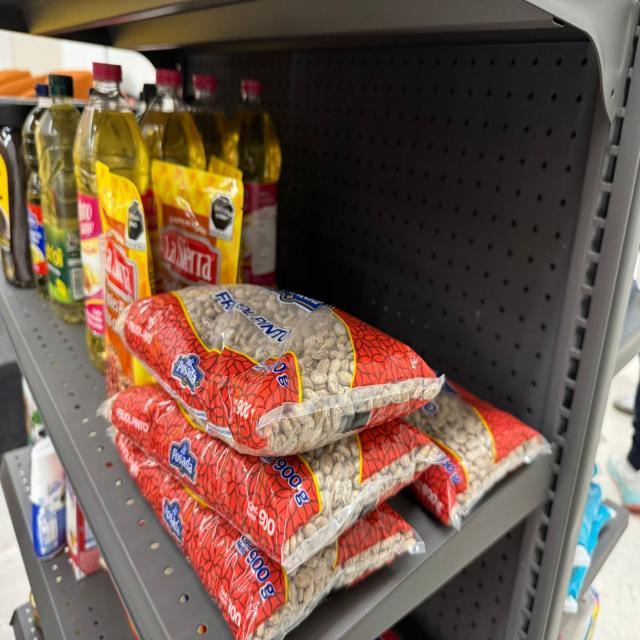Aceite Sabrosano 850ml: (73, 63, 149, 372), (231, 80, 281, 285), (140, 69, 206, 170)
CARNATION Leche Evaporada 720g: (29, 436, 66, 559)
Frijol La Sierra Chorizo 430 bolsa: (96, 163, 156, 396), (151, 160, 243, 286)
Frijol Pinto La Posada 900gr: (98, 385, 450, 570), (115, 431, 420, 639), (119, 285, 444, 456), (401, 380, 543, 525)
